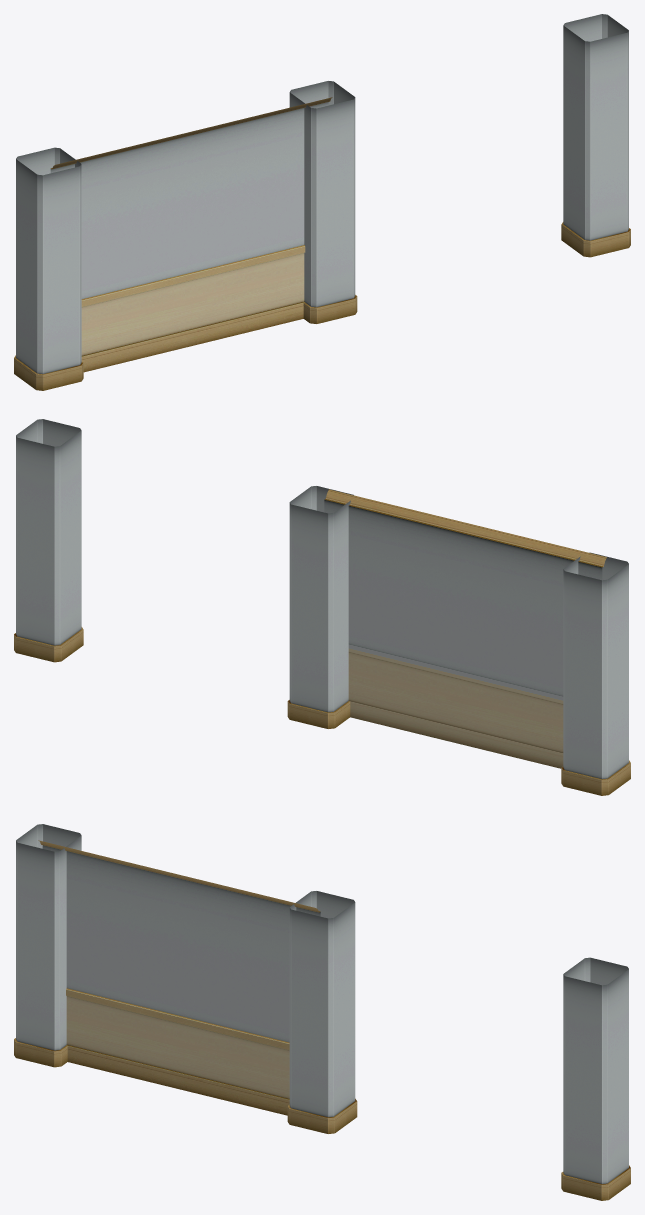
The model's file is Single Stairs (Third Floor) (merge).fbx.
The picture shows the model from 3 angles, top to bottom: view 1: azimuth 30°, elevation 25°; view 2: azimuth 150°, elevation 25°; view 3: azimuth 330°, elevation 25°; orthographic projection.
Visible parts, largest first — view 1: InteriorWall (4), ExteriorColumn (5), ExteriorColumn (3), ExteriorColumn (4); view 2: InteriorWall (4), ExteriorColumn (5), ExteriorColumn (3), ExteriorColumn (4); view 3: InteriorWall (4), ExteriorColumn (4), ExteriorColumn (5), ExteriorColumn (3).
Part boxes in pixels (x1,y1,x2,y2): InteriorWall (4): [50, 97, 332, 372]; ExteriorColumn (5): [561, 14, 630, 257]; ExteriorColumn (3): [14, 147, 83, 390]; ExteriorColumn (4): [289, 81, 357, 323]; InteriorWall (4): [324, 489, 606, 768]; ExteriorColumn (5): [14, 419, 83, 662]; ExteriorColumn (3): [561, 552, 630, 795]; ExteriorColumn (4): [287, 486, 353, 728]; InteriorWall (4): [38, 840, 320, 1115]; ExteriorColumn (4): [287, 891, 357, 1133]; ExteriorColumn (5): [561, 957, 630, 1200]; ExteriorColumn (3): [14, 824, 81, 1067].
Bounding box in the file's own units: 8.69 × 3.05 × 0.6916.
Materials: 2 (2 with a texture image).
